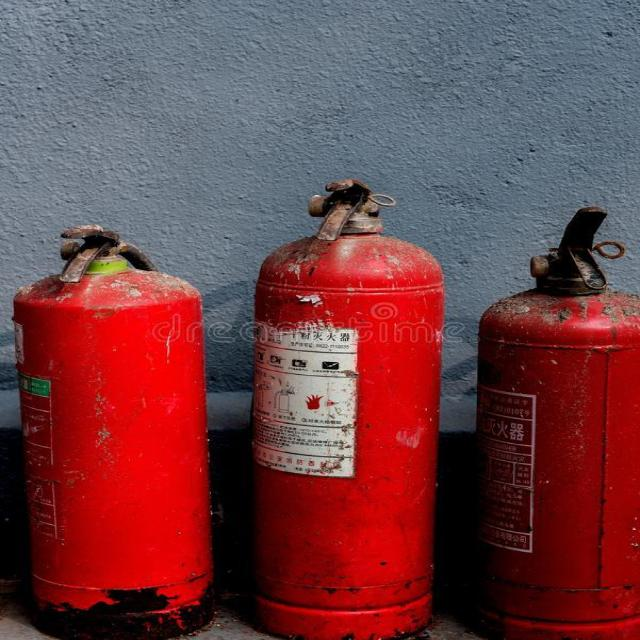fire_extinguisher: (227, 172, 443, 640), (0, 217, 219, 639), (465, 202, 639, 640)
